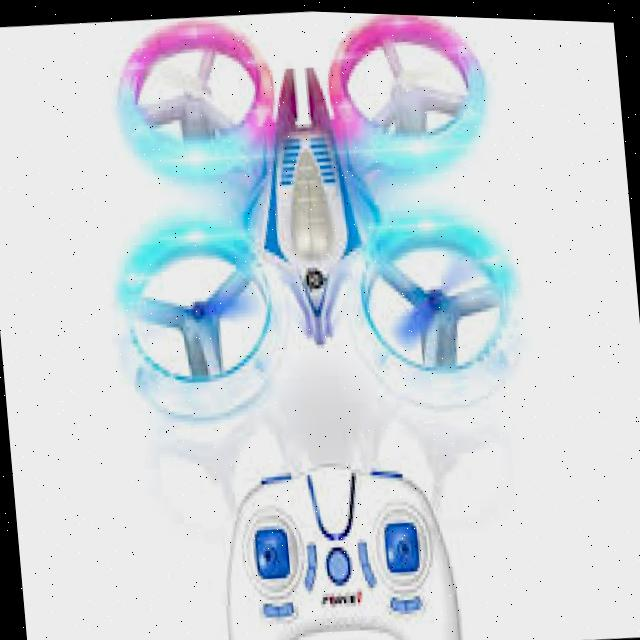drone: (57, 2, 565, 496)
